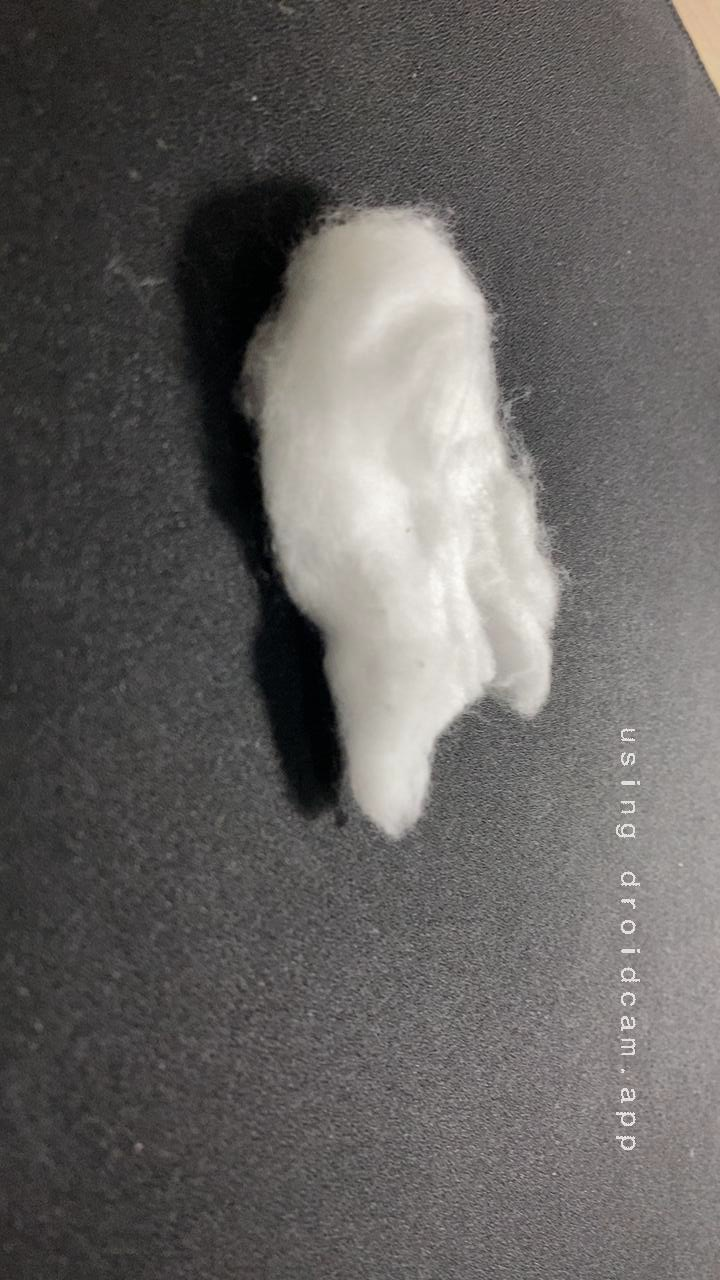cotton: (186, 188, 631, 878)
